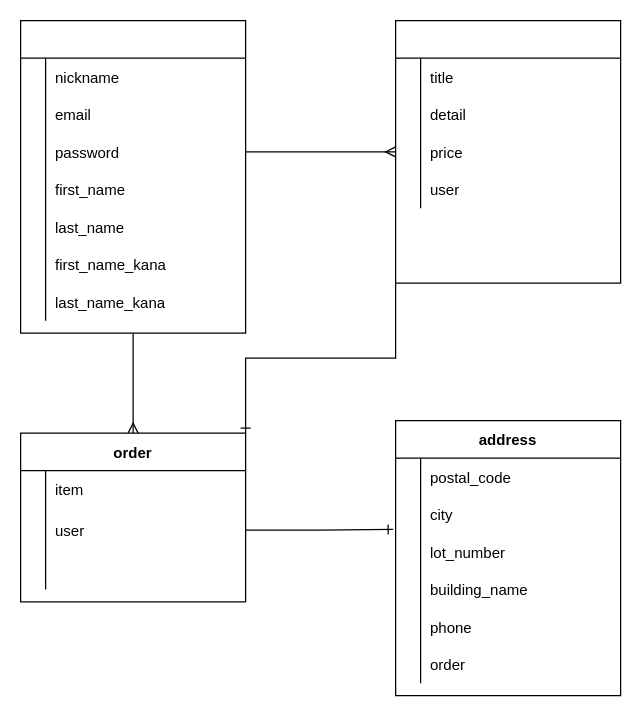
Some shapes in this 641 by 716 pixel diagram are drawn without their labels. Each missing label, with the box of its shape:
items: (394, 19, 621, 283)
users: (19, 19, 246, 333)
